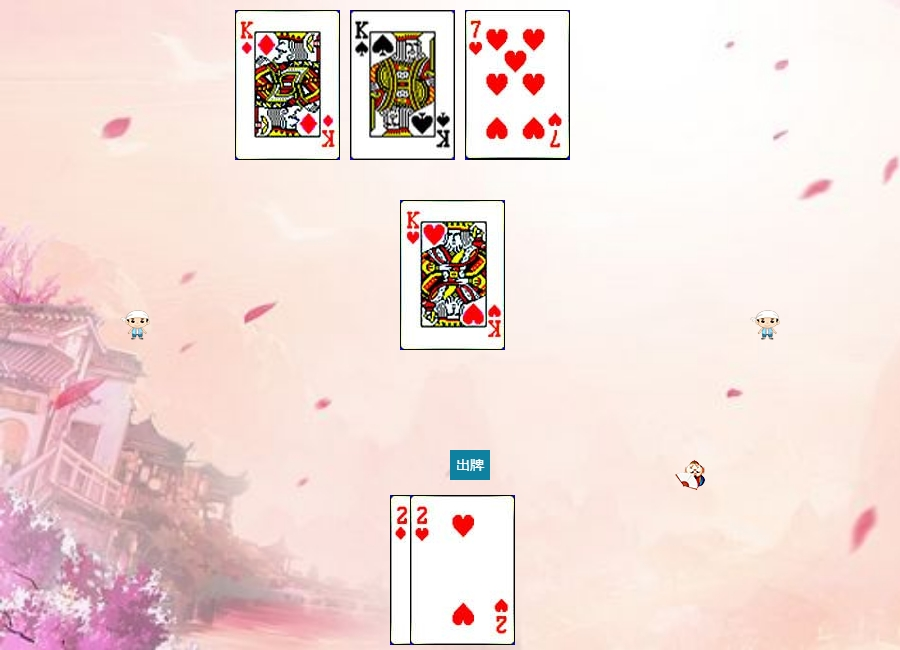13~1: (235, 10, 340, 160)
13~3: (400, 200, 505, 350)
13~4: (350, 10, 455, 160)
15~1: (390, 495, 495, 645)
15~3: (410, 495, 515, 645)
7~3: (465, 10, 570, 160)
